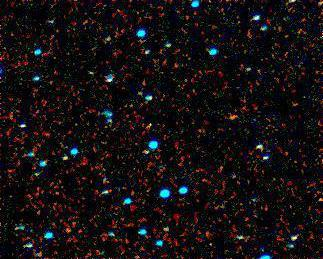star: (52, 219, 82, 249)
